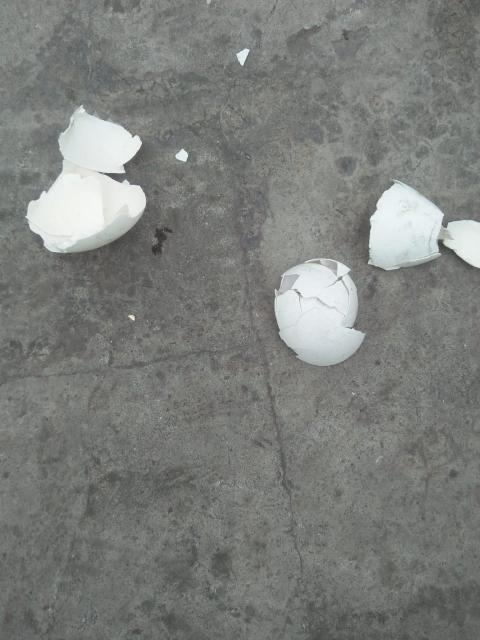Roto: (25, 104, 146, 254), (276, 256, 365, 367), (366, 178, 445, 271), (442, 218, 479, 268)
